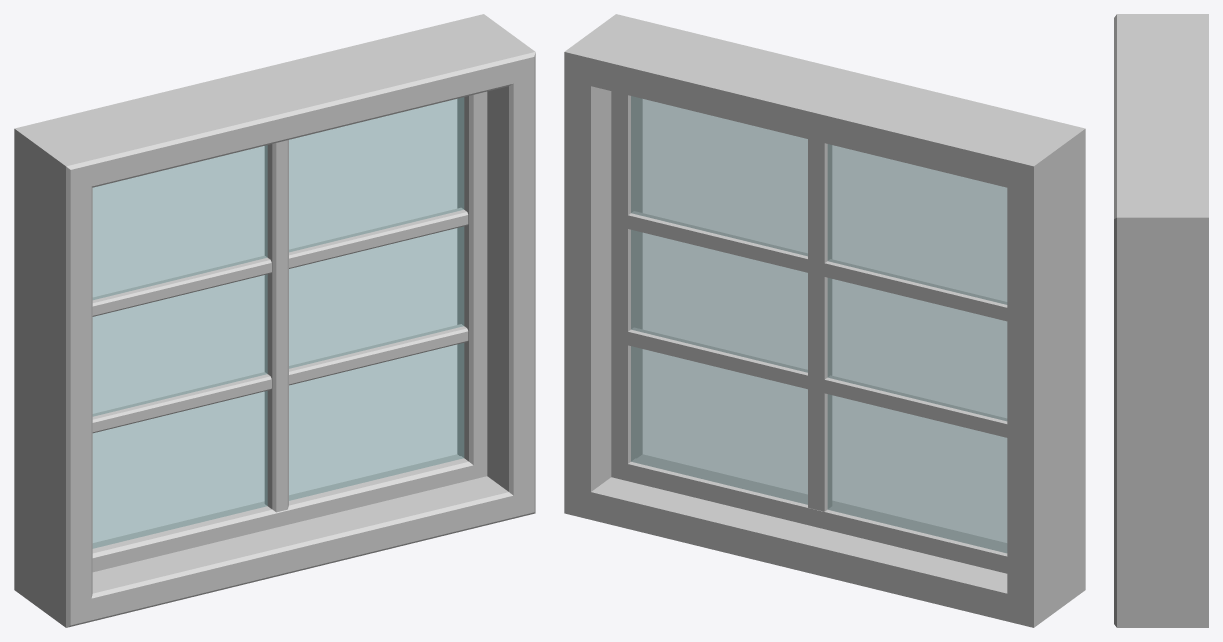
File: LivingRoomWin03.FBX
The picture shows the model from 3 angles, left to right: view 1: azimuth 30°, elevation 25°; view 2: azimuth 150°, elevation 25°; view 3: azimuth 270°, elevation 25°; orthographic projection. The views are drawn at different scales.
Visible parts, largest first — view 1: LivingRoomWin03; view 2: LivingRoomWin03; view 3: LivingRoomWin03.
Part boxes in pixels (x1,y1,x2,y2): LivingRoomWin03: [14, 14, 535, 627]; LivingRoomWin03: [564, 14, 1085, 627]; LivingRoomWin03: [1114, 14, 1208, 627].
Bounding box in the file's own units: 141 × 27.84 × 133.
